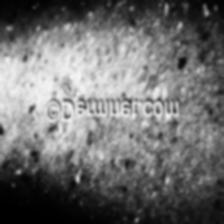Toxin: (62, 78, 72, 96), (86, 127, 95, 145), (84, 152, 93, 168), (129, 19, 137, 33)
